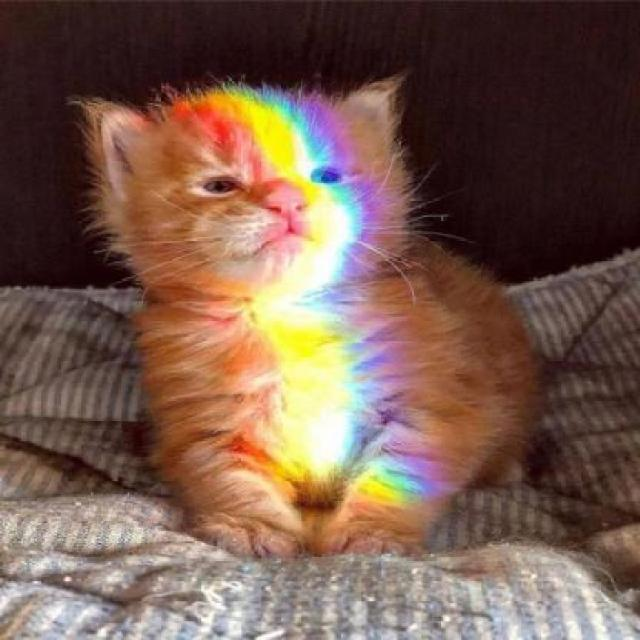cat: (43, 38, 548, 577)
